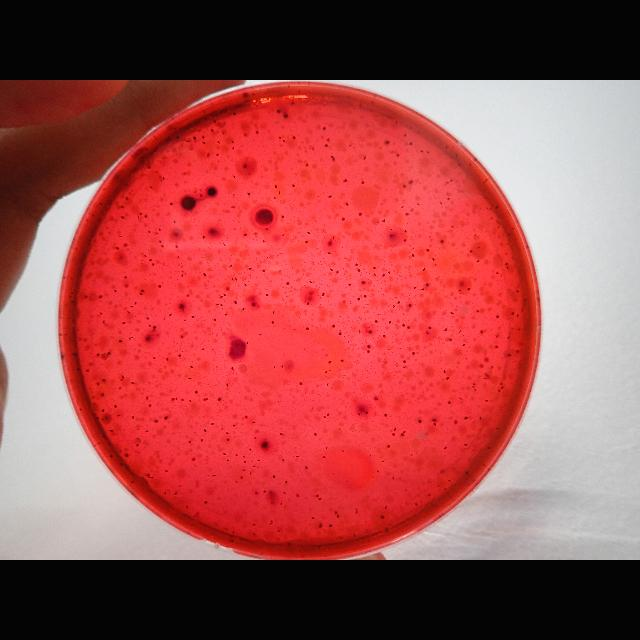colony: (254, 207, 276, 230), (180, 193, 198, 210), (206, 186, 218, 198), (208, 228, 218, 236), (260, 439, 268, 448), (327, 240, 333, 248), (283, 113, 289, 119), (243, 92, 249, 98), (384, 139, 390, 145), (362, 156, 368, 162), (494, 344, 500, 350), (145, 335, 151, 341), (277, 108, 281, 114), (291, 100, 295, 106), (243, 163, 247, 169), (432, 256, 436, 262), (496, 426, 500, 432), (418, 418, 422, 424), (384, 504, 388, 510), (310, 516, 316, 520), (254, 490, 258, 496), (286, 542, 292, 546), (192, 456, 196, 462), (72, 352, 78, 356), (99, 294, 103, 300), (383, 412, 387, 418), (322, 126, 326, 130), (326, 137, 330, 141), (324, 144, 328, 148), (292, 136, 296, 140), (282, 139, 286, 143), (332, 157, 336, 161), (305, 163, 309, 167), (255, 130, 259, 134), (231, 140, 235, 144), (210, 128, 214, 132), (193, 136, 197, 140), (176, 136, 180, 140), (361, 181, 365, 185), (344, 179, 348, 183), (328, 195, 332, 199), (345, 202, 349, 206), (358, 212, 362, 216), (341, 217, 345, 221), (405, 212, 409, 216), (404, 229, 408, 233), (389, 233, 393, 237), (426, 248, 430, 252), (440, 239, 444, 243), (422, 267, 426, 271), (450, 225, 454, 229), (408, 180, 412, 184), (402, 184, 406, 188), (495, 205, 499, 209), (504, 262, 508, 266), (458, 289, 462, 293), (511, 312, 515, 316), (495, 334, 499, 338), (507, 353, 511, 357), (485, 398, 489, 402), (472, 382, 476, 386), (446, 376, 450, 380), (448, 401, 452, 405), (464, 416, 468, 420), (464, 443, 468, 447), (443, 446, 447, 450), (432, 418, 436, 422), (433, 422, 437, 426), (400, 433, 404, 437), (387, 444, 391, 448), (414, 502, 418, 506), (427, 493, 431, 497), (380, 515, 384, 519), (329, 524, 333, 528), (269, 522, 273, 526), (352, 533, 356, 537), (212, 474, 216, 478), (223, 452, 227, 456), (211, 422, 215, 426), (279, 432, 283, 436), (341, 449, 345, 453), (204, 500, 208, 504), (147, 473, 151, 477), (130, 480, 134, 484), (188, 440, 192, 444), (164, 416, 168, 420), (154, 419, 158, 423), (136, 443, 140, 447), (125, 453, 129, 457), (117, 414, 121, 418), (114, 405, 118, 409), (101, 393, 105, 397), (130, 381, 134, 385), (86, 368, 90, 372), (61, 354, 65, 358), (96, 353, 100, 357), (118, 339, 122, 343), (122, 321, 126, 325), (134, 301, 138, 305), (114, 289, 118, 293), (140, 289, 144, 293), (139, 292, 143, 296), (158, 284, 162, 288), (149, 258, 153, 262), (158, 240, 162, 244), (175, 245, 179, 249), (243, 233, 247, 237), (357, 268, 361, 272), (361, 281, 365, 285), (413, 286, 417, 290), (402, 323, 406, 327), (374, 319, 378, 323), (382, 334, 386, 338), (402, 360, 406, 364), (412, 351, 416, 355), (365, 410, 369, 414), (340, 359, 344, 363), (328, 360, 332, 364), (299, 382, 303, 386), (217, 153, 220, 157), (476, 259, 479, 263), (506, 266, 509, 270), (496, 271, 499, 275), (476, 309, 479, 313), (496, 314, 499, 318), (481, 330, 484, 334), (443, 368, 445, 374), (402, 431, 406, 434), (334, 511, 338, 514), (285, 481, 289, 484), (242, 454, 245, 458), (227, 458, 230, 462), (227, 438, 230, 442), (232, 424, 235, 428), (252, 421, 256, 424), (304, 466, 308, 469), (175, 492, 178, 496), (200, 438, 203, 442), (144, 430, 150, 432), (102, 409, 105, 413), (102, 378, 105, 382), (122, 374, 125, 378), (131, 336, 135, 339), (85, 295, 88, 299), (144, 255, 148, 258), (116, 247, 120, 250), (118, 235, 122, 238), (222, 243, 225, 247), (305, 240, 309, 243), (368, 331, 372, 334), (326, 382, 329, 386), (506, 336, 509, 339), (501, 386, 504, 389), (255, 436, 258, 439), (95, 416, 98, 419), (278, 136, 282, 138), (349, 144, 351, 148), (234, 112, 236, 116), (214, 119, 216, 123), (218, 140, 220, 144), (232, 146, 234, 150), (202, 135, 204, 139), (186, 140, 190, 142), (410, 142, 412, 146), (404, 238, 406, 242), (412, 254, 414, 258), (470, 249, 472, 253), (447, 198, 451, 200), (445, 182, 449, 184), (516, 289, 518, 293), (516, 313, 518, 317), (516, 349, 518, 353), (492, 365, 494, 369), (500, 382, 502, 386), (498, 389, 500, 393), (471, 386, 475, 388), (474, 388, 476, 392), (480, 416, 482, 420), (488, 446, 490, 450), (394, 428, 396, 432), (392, 432, 394, 436), (382, 459, 384, 463), (392, 476, 394, 480), (377, 469, 379, 473), (448, 478, 450, 482), (466, 471, 468, 475), (337, 514, 339, 518), (270, 520, 274, 522), (277, 530, 281, 532), (280, 502, 282, 506), (318, 498, 322, 500), (316, 494, 318, 498), (273, 475, 275, 479), (242, 469, 246, 471), (258, 458, 260, 462), (250, 471, 252, 475), (248, 448, 252, 450), (204, 429, 206, 433), (282, 458, 284, 462), (296, 455, 298, 459), (326, 446, 328, 450), (314, 432, 316, 436), (327, 413, 329, 417), (324, 415, 326, 419), (322, 456, 326, 458), (164, 470, 168, 472), (150, 476, 154, 478), (110, 454, 112, 458), (120, 462, 122, 466), (110, 430, 114, 432), (132, 415, 134, 419), (101, 418, 105, 420), (76, 368, 80, 370), (108, 351, 110, 355), (129, 337, 131, 341), (149, 324, 151, 328), (153, 326, 157, 328), (147, 317, 149, 321), (130, 306, 134, 308), (100, 311, 102, 315), (103, 320, 105, 324), (72, 300, 74, 304), (124, 276, 128, 278), (178, 255, 180, 259), (174, 220, 176, 224), (203, 235, 205, 239), (271, 218, 273, 222), (281, 216, 285, 218), (327, 252, 331, 254), (333, 236, 335, 240), (374, 266, 376, 270), (374, 273, 376, 277), (368, 278, 370, 282), (348, 284, 352, 286), (382, 274, 386, 276), (387, 272, 391, 274), (425, 284, 429, 286), (421, 288, 425, 290), (408, 304, 412, 306), (398, 300, 400, 304), (393, 304, 395, 308), (389, 320, 391, 324), (408, 325, 410, 329), (368, 344, 370, 348), (367, 350, 371, 352), (402, 366, 406, 368), (358, 412, 360, 416), (281, 364, 283, 368), (272, 366, 276, 368), (331, 156, 334, 158), (202, 142, 205, 144), (401, 206, 404, 208), (356, 511, 358, 514), (240, 476, 243, 478), (244, 461, 246, 464), (252, 466, 255, 468), (148, 230, 150, 233), (162, 245, 164, 248), (336, 271, 339, 273), (390, 228, 392, 230), (474, 234, 476, 236), (440, 202, 442, 204), (450, 180, 452, 182), (468, 288, 470, 290), (518, 328, 520, 330), (484, 378, 486, 380), (444, 488, 446, 490), (319, 526, 321, 528), (283, 492, 285, 494), (264, 490, 266, 492), (236, 454, 238, 456), (226, 432, 228, 434), (232, 540, 234, 542), (148, 476, 150, 478), (164, 492, 166, 494), (103, 436, 105, 438), (152, 264, 154, 266), (159, 228, 161, 230), (266, 228, 268, 230), (263, 240, 265, 242), (282, 234, 284, 236), (308, 232, 310, 234), (330, 268, 332, 270), (356, 264, 358, 266)
